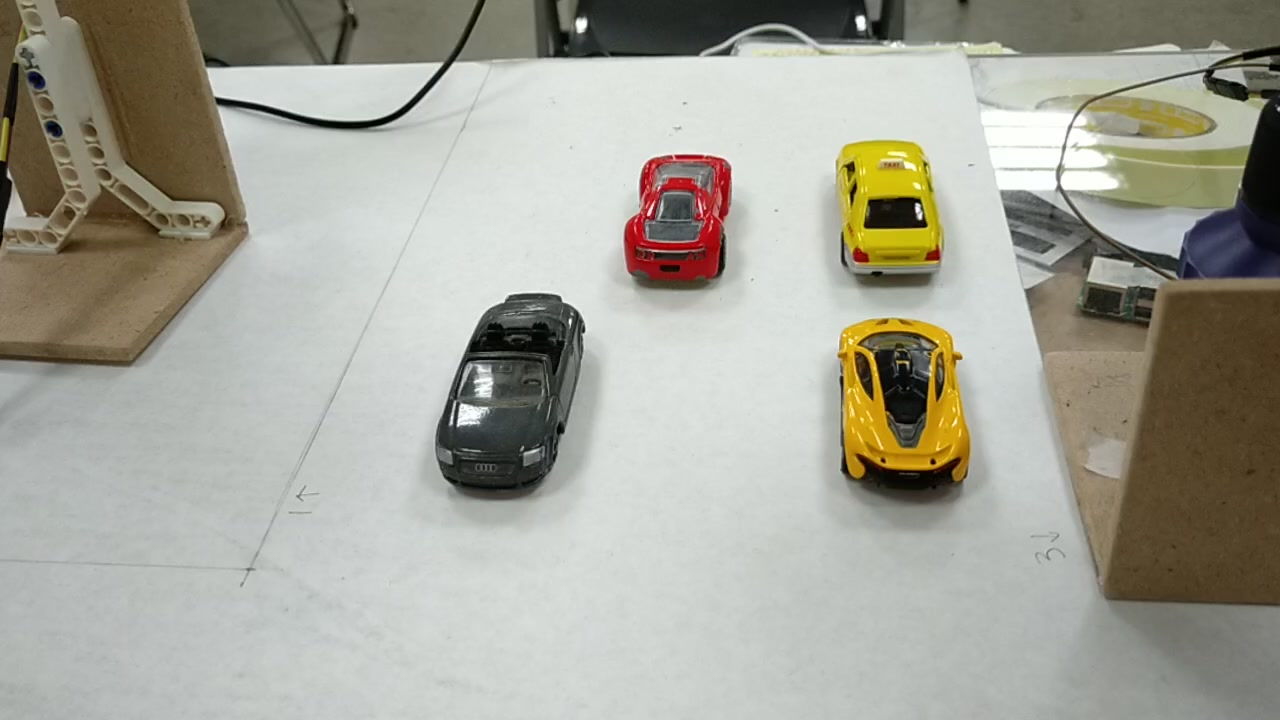car: (434, 306, 586, 495), (841, 319, 968, 488), (621, 146, 739, 292), (843, 133, 939, 273)
